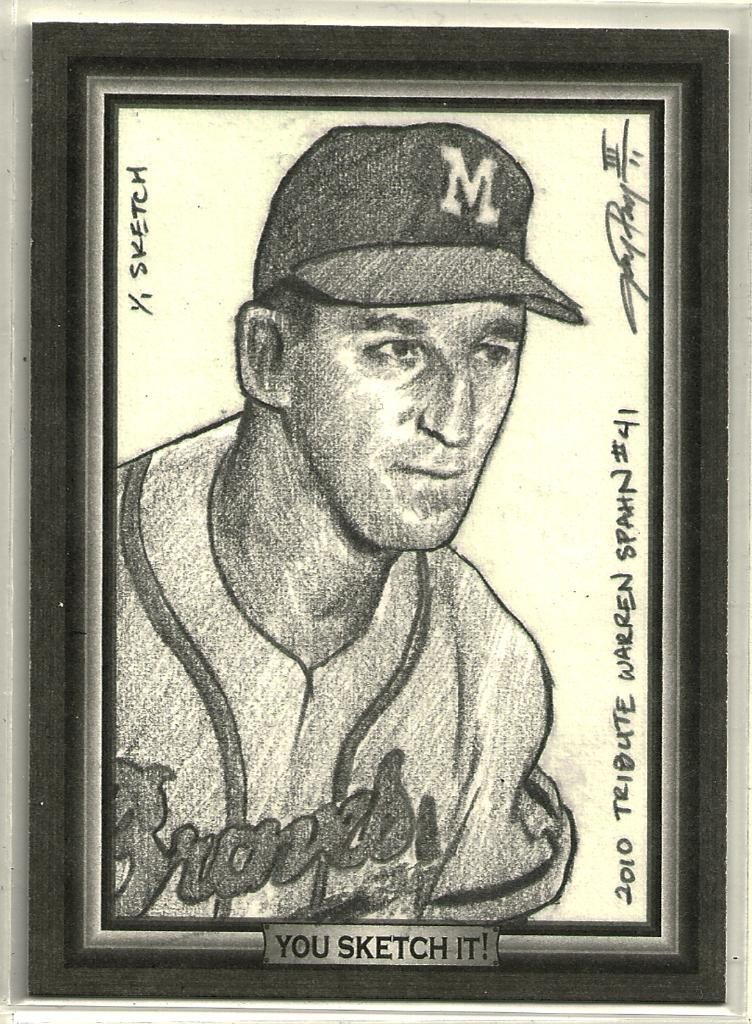Hat: (251, 118, 587, 324)
